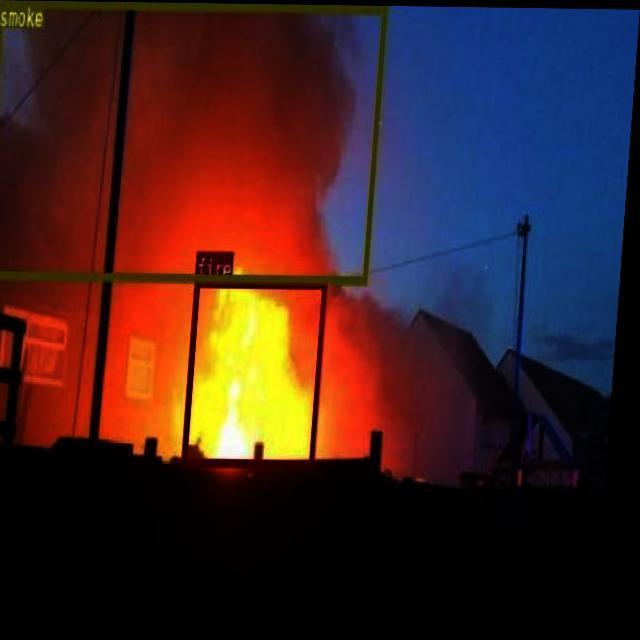Fire: (182, 287, 356, 466)
Smoke: (0, 0, 390, 290)
